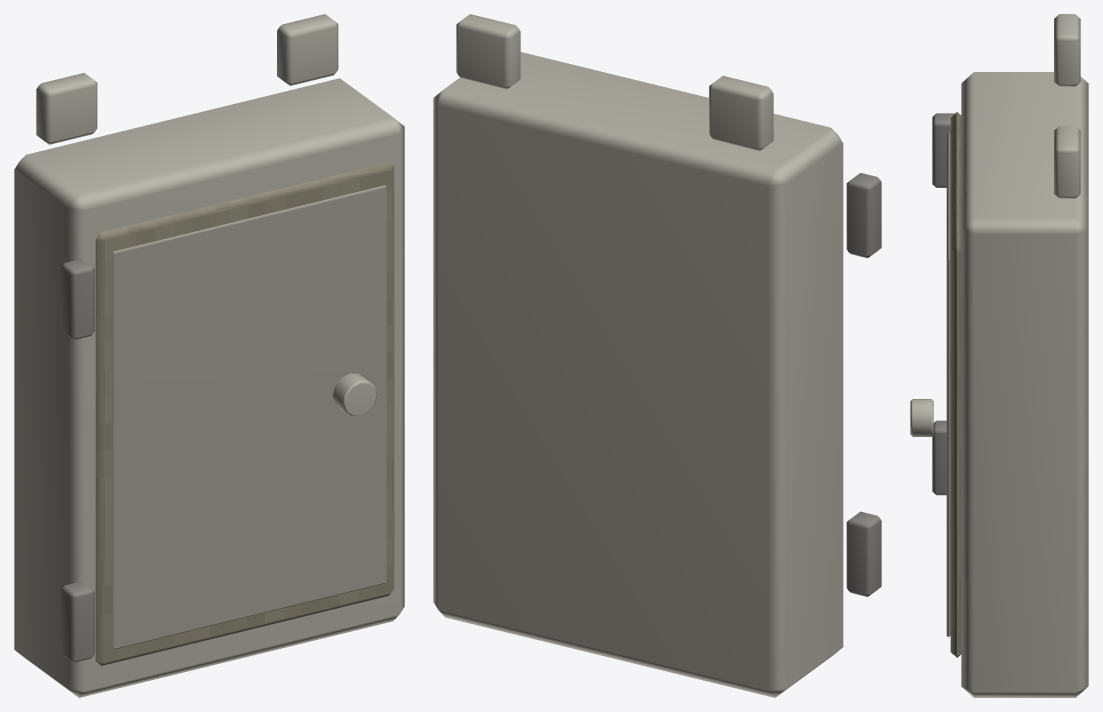
Rendered from ElectricBox_A.glb.
3 renders of one model, left to right at view 1: azimuth 30°, elevation 25°; view 2: azimuth 150°, elevation 25°; view 3: azimuth 270°, elevation 25°, orthographic. The views are drawn at different scales.
Parts seen in each view (by area): view 1: ElectricBox_A_door_seam, ElectricBox_A_body, ElectricBox_A_front_door, ElectricBox_A_mount_tab_top_-0.125, ElectricBox_A_mount_tab_top_0.125, ElectricBox_A_hinge_0.41, ElectricBox_A_hinge_0.09, ElectricBox_A_round_knob; view 2: ElectricBox_A_body, ElectricBox_A_mount_tab_top_-0.125, ElectricBox_A_mount_tab_top_0.125, ElectricBox_A_hinge_0.09, ElectricBox_A_hinge_0.41; view 3: ElectricBox_A_body, ElectricBox_A_front_door, ElectricBox_A_door_seam, ElectricBox_A_mount_tab_top_-0.125, ElectricBox_A_mount_tab_top_0.125, ElectricBox_A_hinge_0.41, ElectricBox_A_hinge_0.09, ElectricBox_A_round_knob.
Boxes of the visible parts, box(x1,y1,x2,y2) form: ElectricBox_A_door_seam: box(112, 185, 386, 649); ElectricBox_A_body: box(14, 78, 404, 697); ElectricBox_A_front_door: box(95, 162, 394, 665); ElectricBox_A_mount_tab_top_-0.125: box(36, 73, 97, 144); ElectricBox_A_mount_tab_top_0.125: box(277, 14, 338, 85); ElectricBox_A_hinge_0.41: box(61, 259, 94, 340); ElectricBox_A_hinge_0.09: box(61, 581, 94, 662); ElectricBox_A_round_knob: box(332, 373, 376, 416); ElectricBox_A_body: box(433, 52, 843, 697); ElectricBox_A_mount_tab_top_-0.125: box(709, 75, 773, 151); ElectricBox_A_mount_tab_top_0.125: box(456, 14, 520, 89); ElectricBox_A_hinge_0.09: box(846, 511, 881, 596); ElectricBox_A_hinge_0.41: box(846, 173, 881, 258); ElectricBox_A_body: box(961, 72, 1088, 697); ElectricBox_A_front_door: box(950, 112, 961, 657); ElectricBox_A_door_seam: box(946, 132, 950, 637); ElectricBox_A_mount_tab_top_-0.125: box(1054, 14, 1080, 86); ElectricBox_A_mount_tab_top_0.125: box(1054, 126, 1080, 198); ElectricBox_A_hinge_0.41: box(932, 113, 954, 187); ElectricBox_A_hinge_0.09: box(932, 420, 946, 495); ElectricBox_A_round_knob: box(910, 399, 933, 436).
Bounding box in the file's own units: 0.3675 × 0.5675 × 0.168.
Materials: 4 (1 with a texture image).
